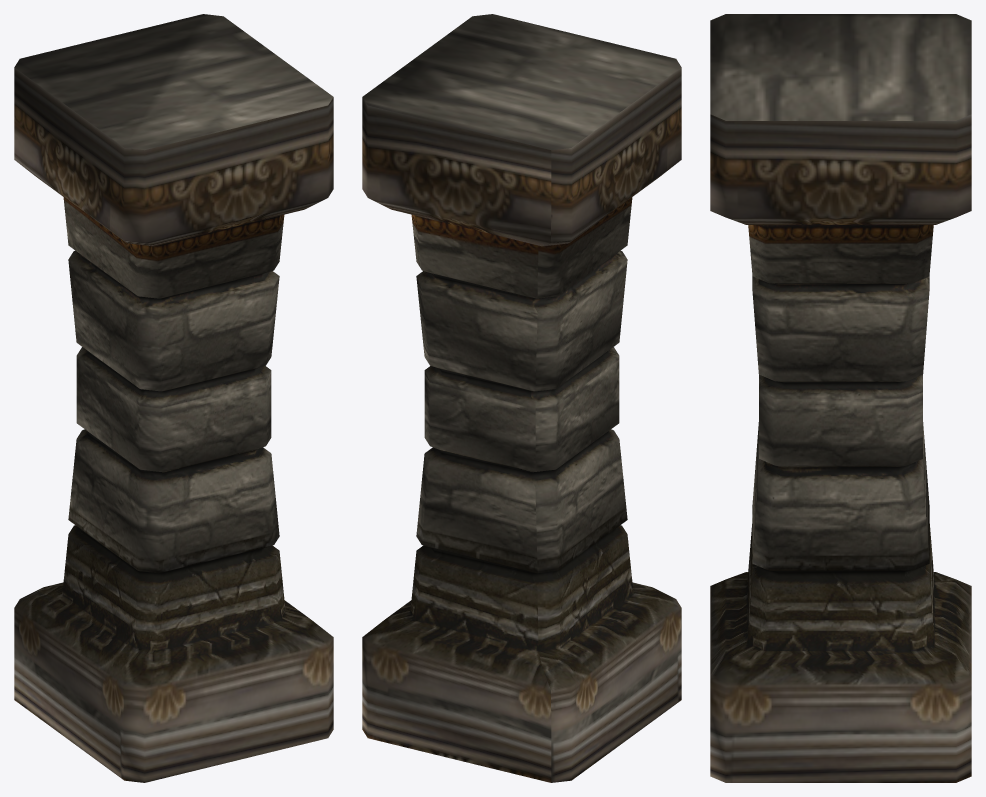
File: Piller01.fbx
3 renders of one model, left to right at view 1: azimuth 30°, elevation 25°; view 2: azimuth 150°, elevation 25°; view 3: azimuth 270°, elevation 25°, orthographic. The views are drawn at different scales.
Parts seen in each view (by area): view 1: pCube2; view 2: pCube2; view 3: pCube2.
Part boxes in pixels (<box>): pCube2: <box>14,14,333,782</box>; pCube2: <box>362,14,681,782</box>; pCube2: <box>710,14,971,782</box>.
Bounding box in the file's own units: 4.33 × 12.51 × 4.48.
